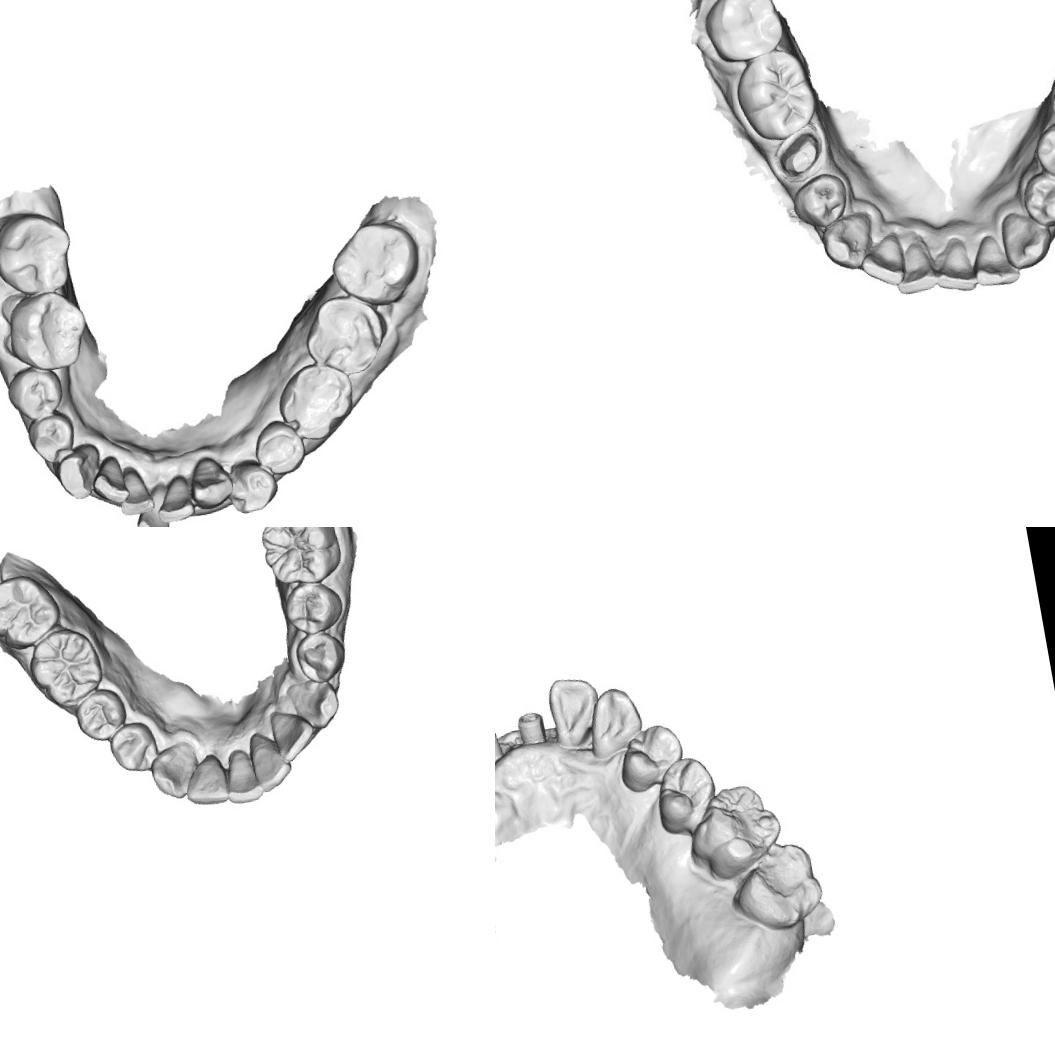canine: (580, 683, 647, 761), (817, 209, 877, 274), (145, 738, 204, 803), (997, 207, 1055, 272), (51, 438, 108, 503), (283, 674, 342, 734), (184, 448, 238, 512)
crown: (768, 120, 830, 185)
implant: (513, 706, 549, 748), (495, 728, 507, 769)
incisor: (541, 670, 606, 752), (244, 726, 295, 794), (968, 230, 1022, 290), (856, 232, 908, 291), (266, 704, 318, 763), (178, 751, 230, 809), (109, 461, 160, 519), (85, 450, 133, 510), (889, 236, 937, 296), (929, 238, 978, 296), (148, 467, 196, 526), (220, 744, 265, 806), (128, 482, 175, 527)
molar: (678, 779, 787, 887), (322, 213, 427, 314), (723, 837, 828, 938), (295, 286, 397, 384), (729, 42, 822, 146), (0, 283, 95, 379), (268, 354, 363, 447), (0, 202, 80, 303), (22, 623, 108, 713), (697, 0, 787, 67), (254, 527, 345, 591), (0, 569, 66, 655)
premolar: (649, 751, 722, 837), (611, 720, 690, 796), (2, 361, 68, 426), (246, 413, 310, 480), (219, 452, 283, 518), (278, 576, 346, 638), (788, 169, 852, 232), (71, 684, 130, 745), (290, 627, 350, 686), (22, 408, 80, 469), (106, 718, 162, 778), (1018, 165, 1055, 231), (1031, 115, 1055, 185)
